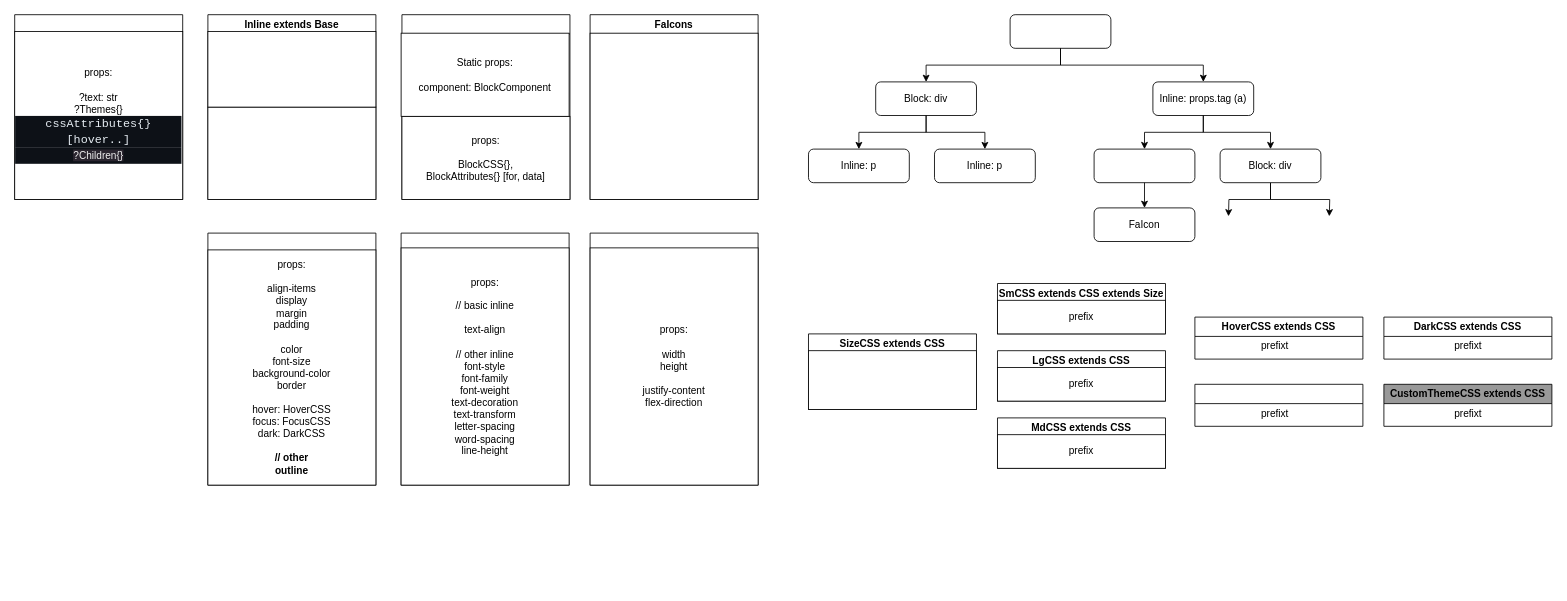
This 1567x601 diagram has some shape labels left out. Here are the shapes that lost their labels. From the top down, the box of each, then its label:
(1009, 14, 1111, 48): Block:div
(207, 31, 376, 107): Static props: component: InlineComponent
(14, 14, 183, 200): Base
(401, 14, 570, 200): Block extebds Base
(589, 32, 758, 200): props: iconName: str style{}
(207, 106, 376, 200): props: Tag: str ?InlineCSS{}, ?InlineAttributes{} [href, blank]
(1093, 148, 1195, 183): Inline: props.tag(span)
(207, 232, 376, 485): CommonCSS
(400, 232, 569, 485): InlineCSS extends CommonCSS
(589, 232, 758, 485): BlockCSS extends CommonCSS
(808, 350, 976, 410): min-width max-width
(1194, 383, 1363, 426): FocusCSS extends CSS
